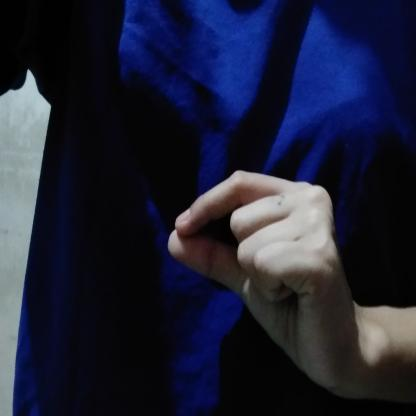nothing: (158, 164, 369, 402)
